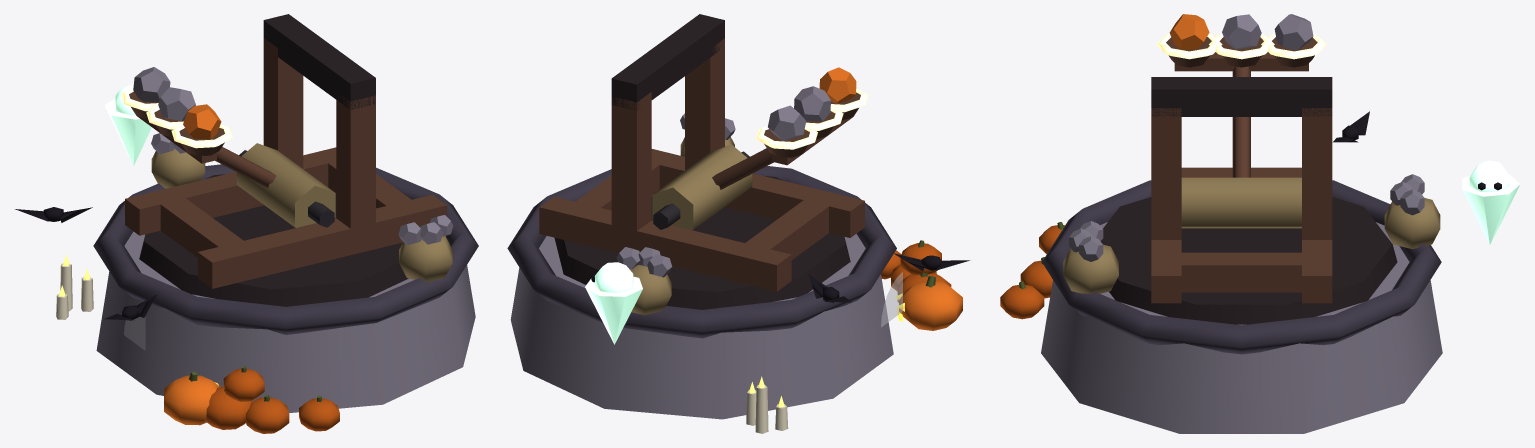
Rendered from tower_catapult_rockStorm.glb.
The picture shows the model from 3 angles, left to right: view 1: azimuth 30°, elevation 25°; view 2: azimuth 150°, elevation 25°; view 3: azimuth 270°, elevation 25°; orthographic projection. The views are drawn at different scales.
Visible parts, largest first — view 1: base, base_rim, turntable, rail_l, upright_l, stop_bar, rail_r, torsion_rope, cross_w, upright_r, deco_hw_jack_body, net_sack_0 (+16 smaller); view 2: base, base_rim, turntable, rail_r, upright_r, stop_bar, rail_l, torsion_rope, upright_l, cross_w, deco_hw_jack_body, cross_e (+13 smaller); view 3: base, turntable, base_rim, stop_bar, torsion_rope, cross_e, upright_l, upright_r, net_sack_1, net_sack_0, rail_l, rail_r (+18 smaller).
Part boxes in pixels (box(x1,y1,x2,y2)): base: box(96, 231, 475, 412); base_rim: box(93, 164, 478, 334); turntable: box(139, 174, 408, 306); rail_l: box(197, 194, 447, 288); upright_l: box(336, 92, 375, 232); stop_bar: box(263, 14, 375, 109); rail_r: box(125, 149, 336, 235); torsion_rope: box(236, 143, 335, 227); cross_w: box(146, 187, 258, 283); upright_r: box(263, 38, 303, 168); deco_hw_jack_body: box(164, 375, 219, 425); net_sack_0: box(399, 236, 452, 282); base: box(510, 234, 893, 419); base_rim: box(507, 166, 896, 338); turntable: box(554, 176, 850, 309); rail_r: box(539, 196, 791, 291); upright_r: box(611, 92, 651, 234); stop_bar: box(611, 14, 724, 110); rail_l: box(651, 149, 864, 237); torsion_rope: box(652, 144, 752, 229); upright_l: box(685, 38, 724, 170); cross_w: box(730, 189, 833, 286); deco_hw_jack_body: box(899, 280, 962, 330); cross_e: box(560, 149, 673, 245); base: box(1041, 222, 1442, 433); turntable: box(1101, 197, 1397, 324); base_rim: box(1042, 180, 1441, 354); stop_bar: box(1151, 77, 1332, 116); torsion_rope: box(1181, 177, 1301, 228); cross_e: box(1181, 252, 1331, 292); upright_l: box(1151, 108, 1181, 239); upright_r: box(1302, 108, 1332, 239); net_sack_1: box(1384, 198, 1440, 249); net_sack_0: box(1063, 244, 1118, 294); rail_l: box(1151, 240, 1181, 303); rail_r: box(1302, 240, 1332, 303).
Size of the model in its own units: 0.4664 by 0.315 by 0.5179.
